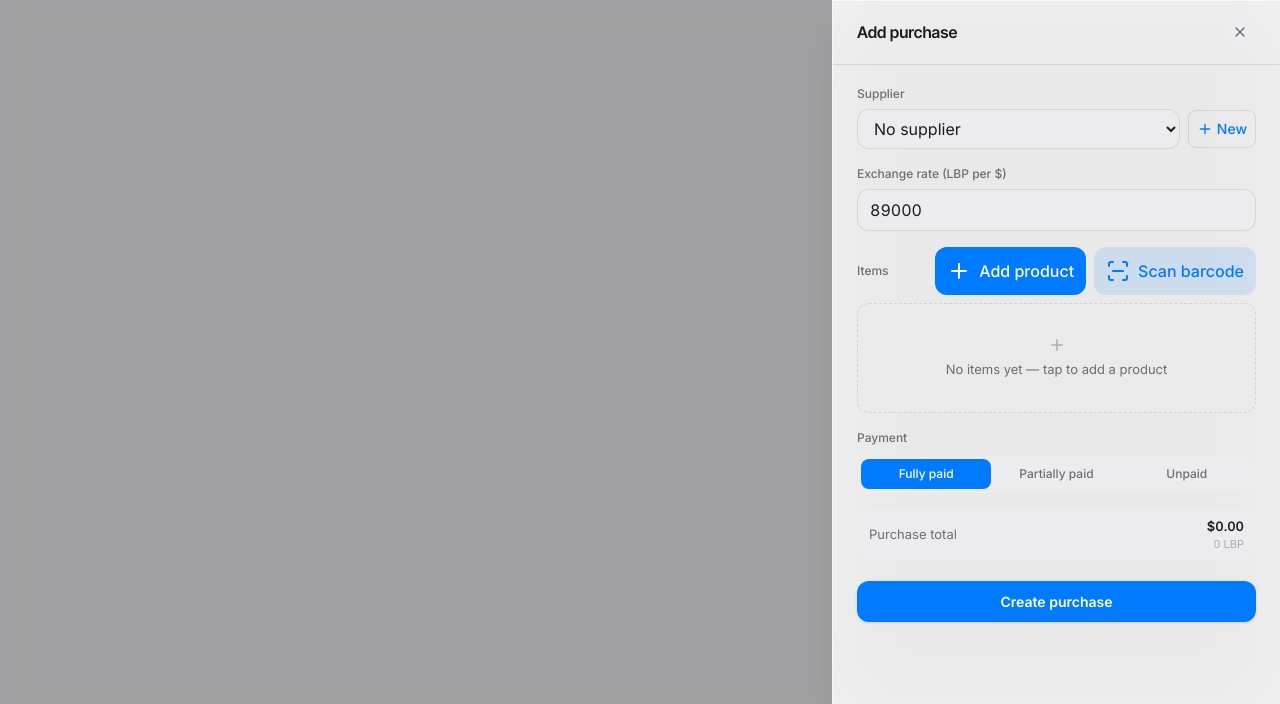
Test case: payment controls › offers the same controls on a purchase
Click the button "Partially paid".
click(1056, 474)  # box [991,458,1122,488]
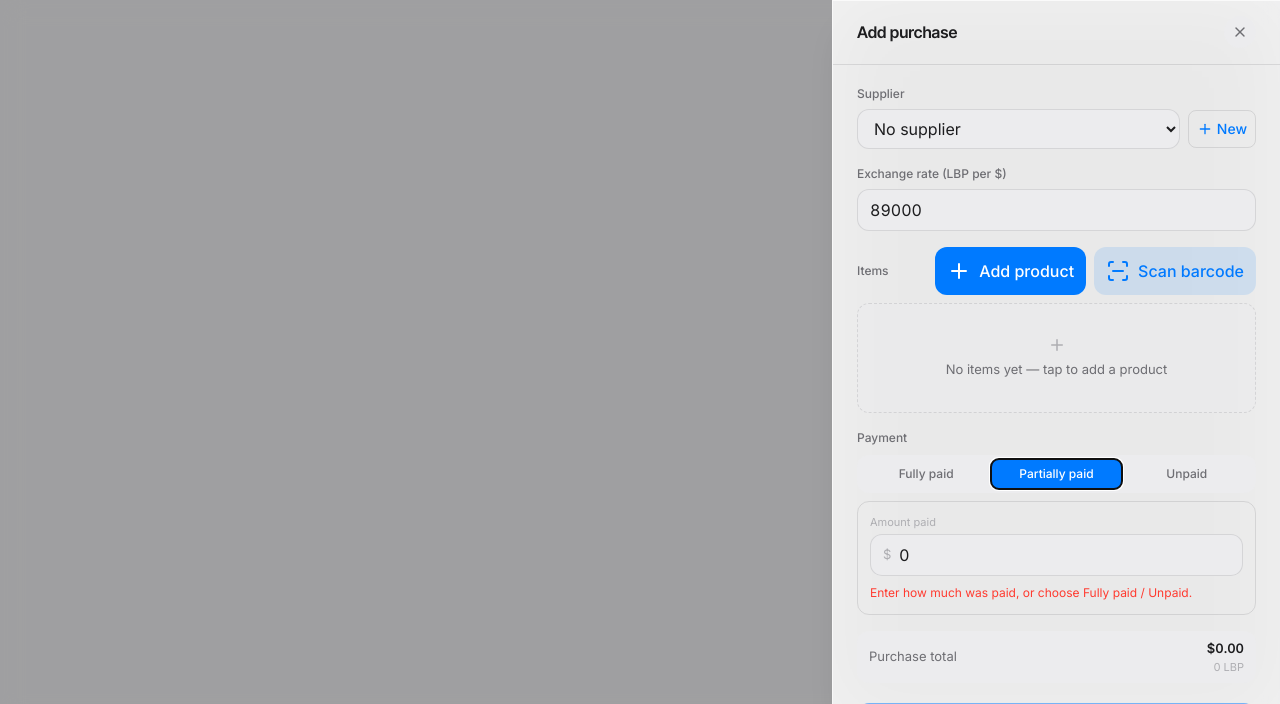
Now the text "Amount paid" is shown, box [870,514,936,528]
